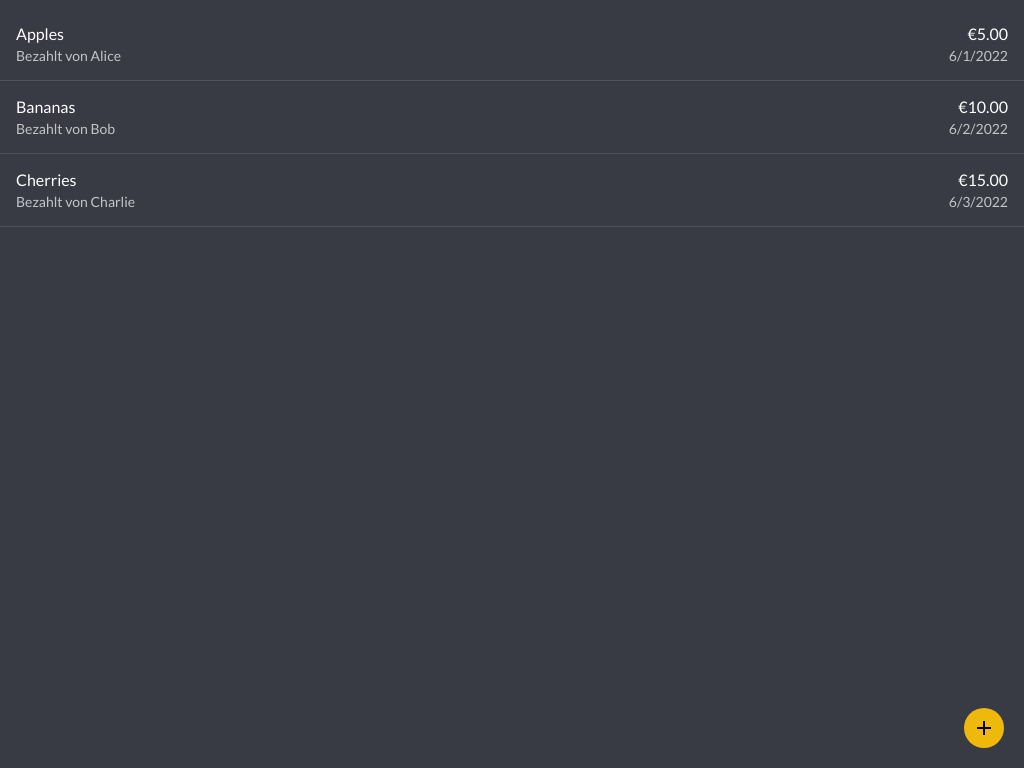
Test: TransactionList Component › click on close button in detail dialog
# click on list item
Click the button with test id "transactionListItemButton" showing "Apples Bezahlt von Alice" at (69, 44), box top-left (16, 24), bottom-right (121, 64)
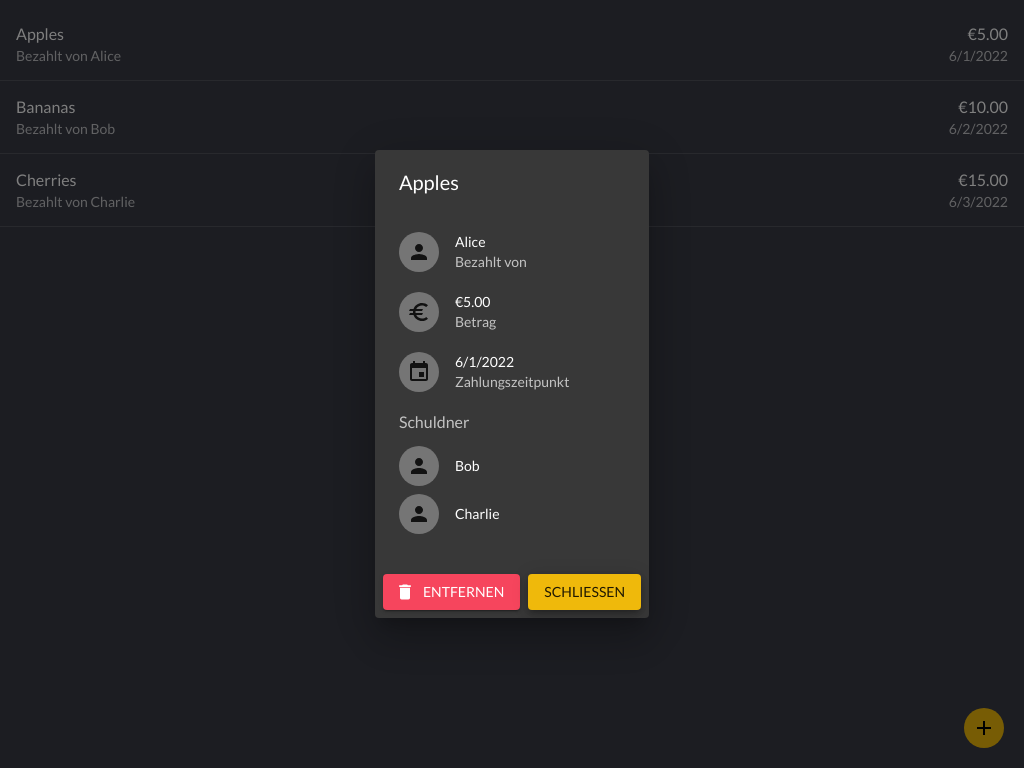
# click on close button of transaction detail dialog
Click the button "Schließen" at (585, 592), box top-left (528, 574), bottom-right (641, 610)
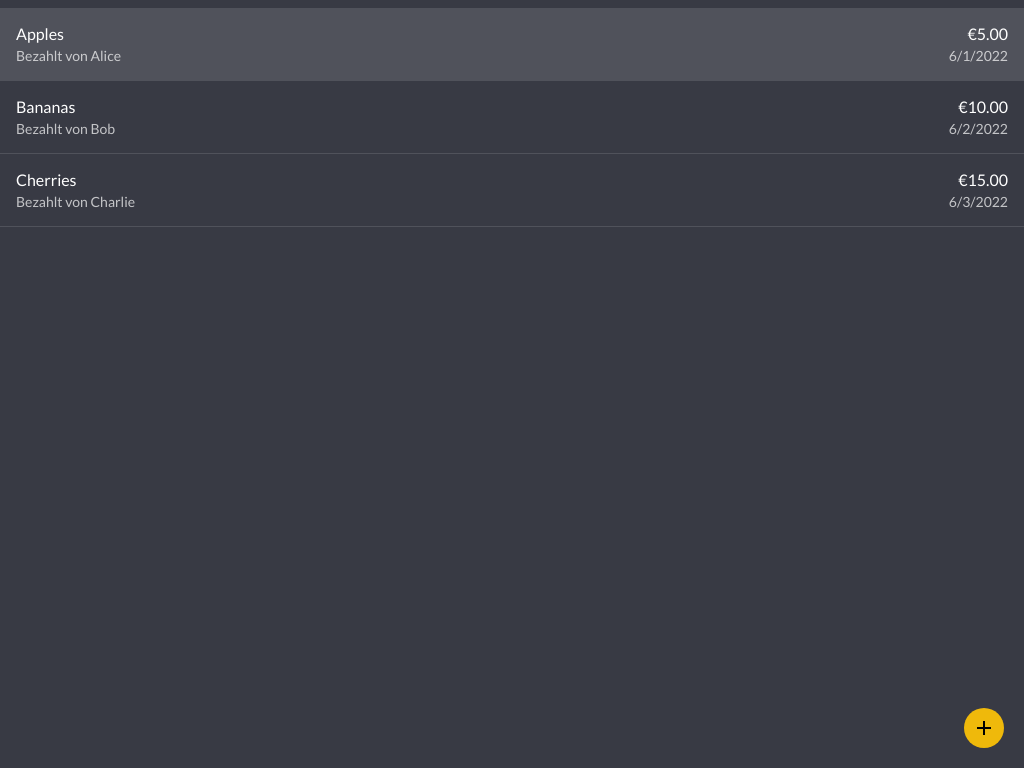
Expected: the element with test id "transactionDetailDialog" is gone
